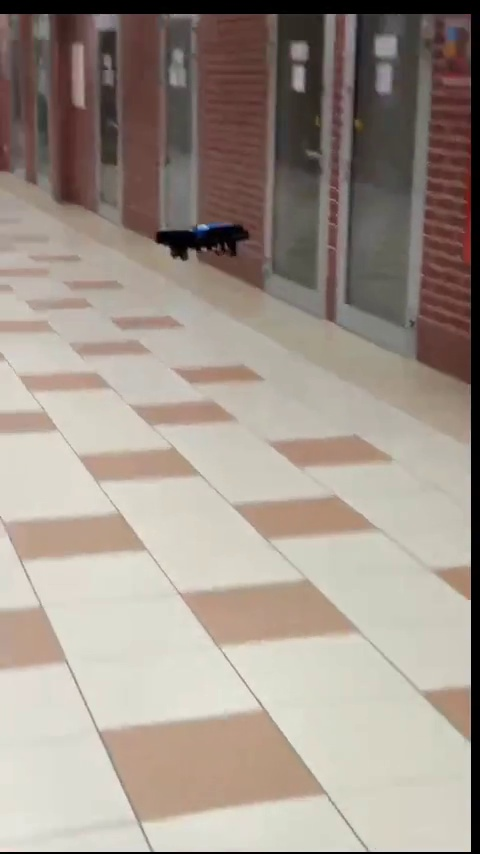drone: (156, 222, 248, 255)
